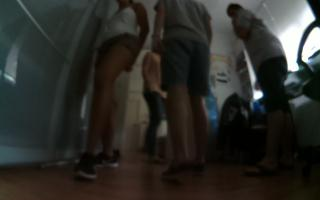person: (69, 1, 150, 182), (224, 1, 304, 177), (153, 1, 214, 185), (131, 35, 173, 165)
